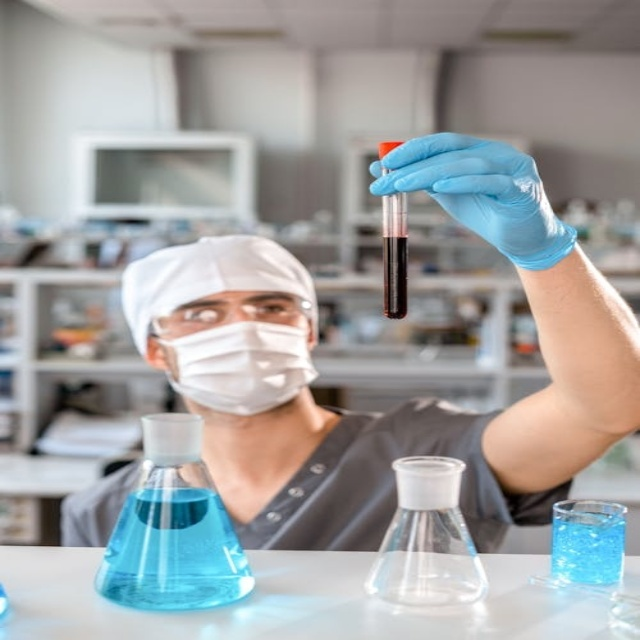Gafas: (149, 300, 314, 337)
Guantes: (364, 131, 576, 269)
Mascara: (157, 318, 320, 415)
